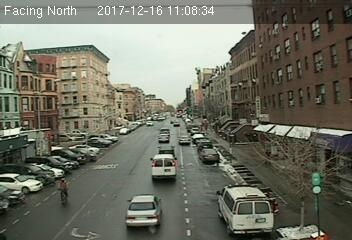bicycle: (58, 174, 70, 208)
car: (124, 193, 163, 228), (199, 147, 219, 163), (157, 144, 175, 155), (178, 135, 191, 145), (158, 133, 170, 141)
police: (214, 184, 274, 234)
truck: (151, 154, 176, 180)
